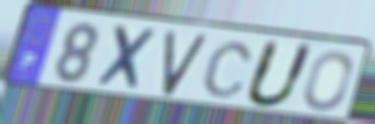8: (53, 21, 100, 86)
C: (200, 40, 256, 100)
O: (301, 49, 355, 113)
U: (241, 38, 318, 110)
V: (161, 30, 211, 98)
X: (93, 23, 160, 94)
